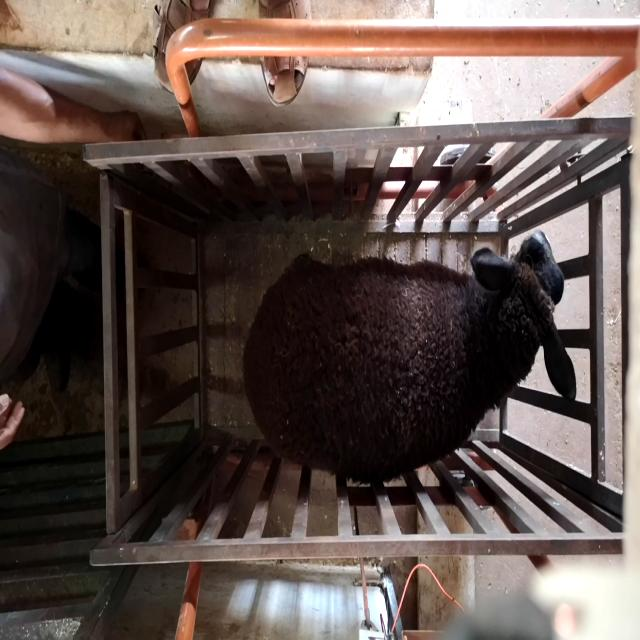sheep: (243, 229, 577, 485)
